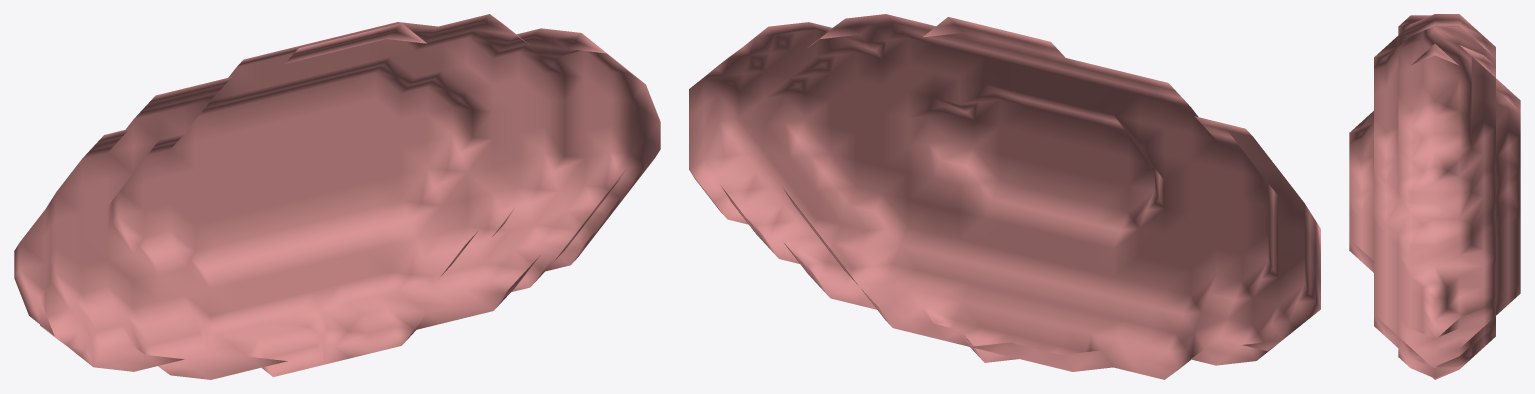
Rendered from 239514_occ.glb.
3 renders of one model, left to right at view 1: azimuth 30°, elevation 25°; view 2: azimuth 150°, elevation 25°; view 3: azimuth 270°, elevation 25°, orthographic. The views are drawn at different scales.
Visible parts, largest first — view 1: world; view 2: world; view 3: world.
Boxes of the visible parts, x1,y1,x2,y2 form: world: (14,14,660,379); world: (689,14,1320,379); world: (1349,14,1520,379).
Bounding box in the file's own units: 2.4 × 1.2 × 0.7.
